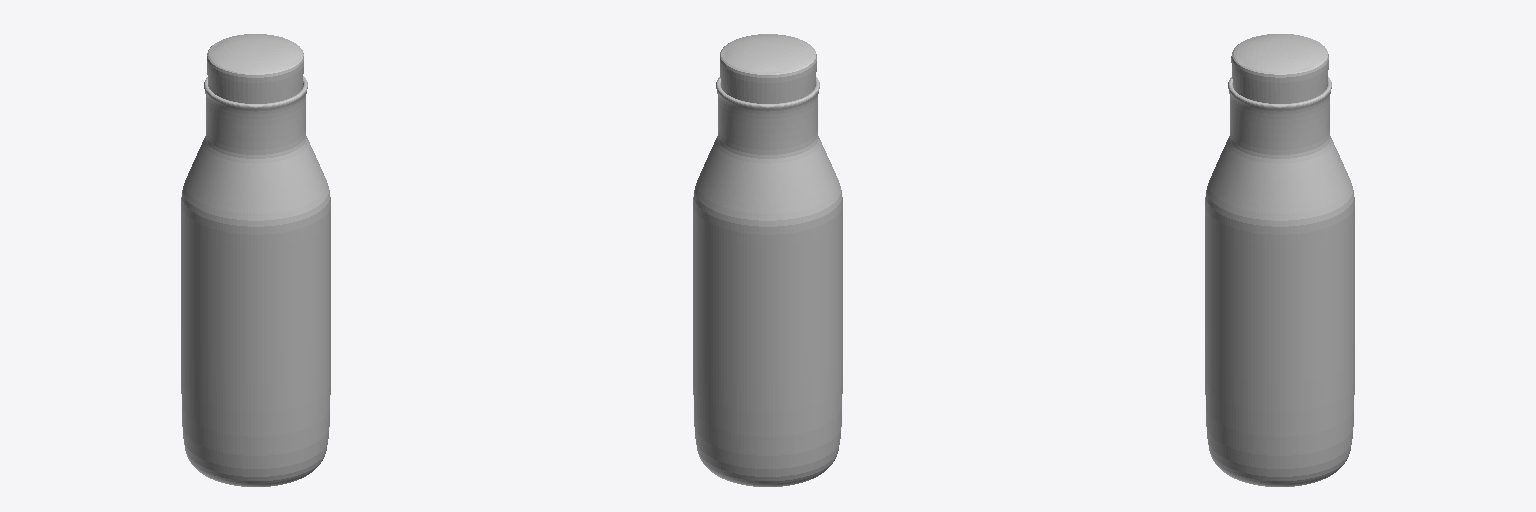
Rendered from Carafe_with_stopper.obj.
The picture shows the model from 3 angles: view 1: azimuth 30°, elevation 25°; view 2: azimuth 150°, elevation 25°; view 3: azimuth 270°, elevation 25°; orthographic projection.
Parts seen in each view (by area): view 1: Bottle, stopper; view 2: Bottle, stopper; view 3: Bottle, stopper.
Boxes of the visible parts, x1=… form: Bottle: x1=181, y1=76, x2=330, y2=486; stopper: x1=207, y1=34, x2=303, y2=103; Bottle: x1=693, y1=77, x2=842, y2=486; stopper: x1=720, y1=34, x2=816, y2=103; Bottle: x1=1205, y1=77, x2=1354, y2=486; stopper: x1=1231, y1=34, x2=1328, y2=103.
Size of the model in its own units: 0.0894 by 0.274 by 0.0894.